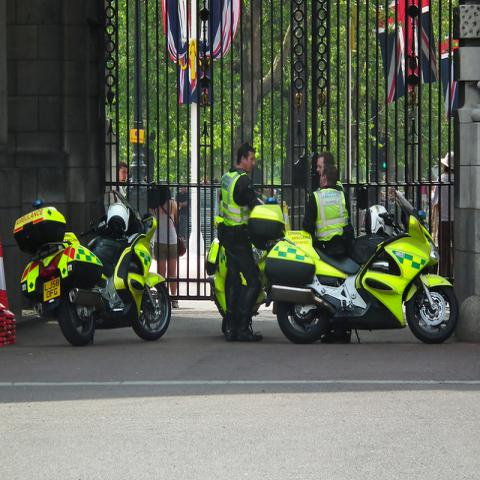motorcycle: (250, 204, 457, 342), (13, 191, 171, 350), (206, 237, 272, 315)
